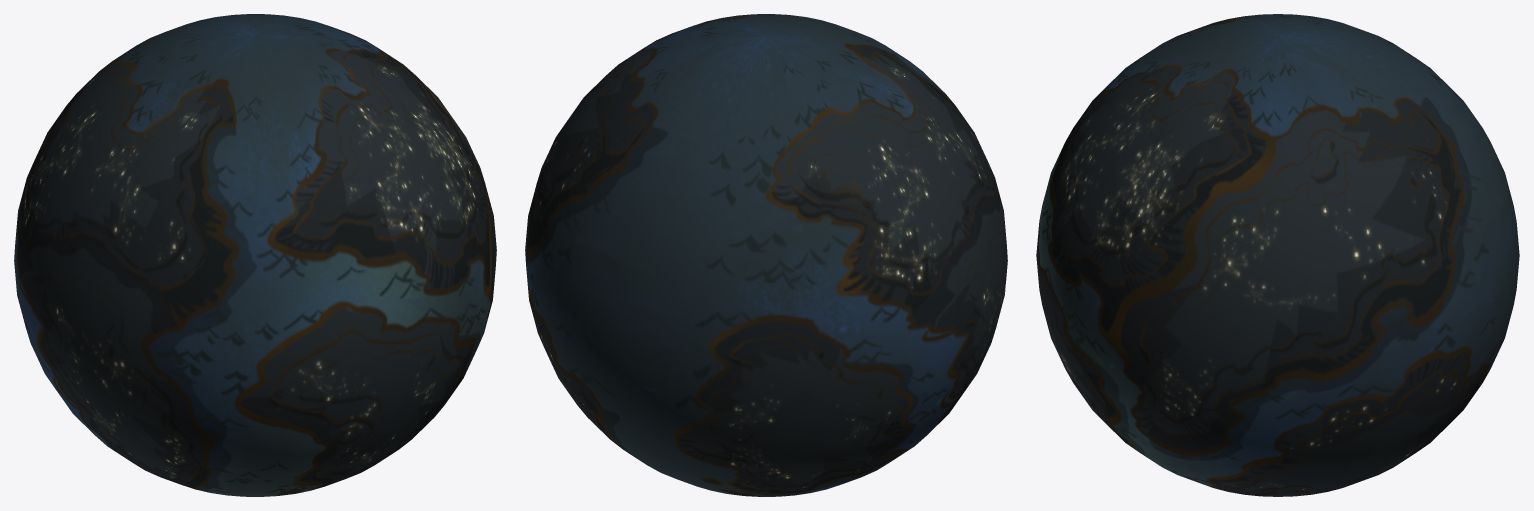
Rendered from SPlanet.FBX.
3 views of the same model, side by side, from view 1: azimuth 30°, elevation 25°; view 2: azimuth 150°, elevation 25°; view 3: azimuth 270°, elevation 25° (orthographic).
Visible parts, largest first — view 1: Sphere003, Sphere003_frag_394, Sphere003_frag_385, Sphere003_frag_442, Sphere003_frag_358, Sphere003_frag_320, Sphere003_frag_422, Sphere003_frag_261, Sphere003_frag_354, Sphere003_frag_251, Sphere003_frag_276, Sphere003_frag_435 (+18 smaller); view 2: Sphere003, Sphere003_frag_341, Sphere003_frag_431, Sphere003_frag_349, Sphere003_frag_452, Sphere003_frag_455, Sphere003_frag_399, Sphere003_frag_481, Sphere003_frag_420, Sphere003_frag_437, Sphere003_frag_373, Sphere003_frag_482 (+21 smaller); view 3: Sphere003, Sphere003_frag_471, Sphere003_frag_482, Sphere003_frag_274, Sphere003_frag_362, Sphere003_frag_399, Sphere003_frag_417, Sphere003_frag_258, Sphere003_frag_465, Sphere003_frag_407, Sphere003_frag_461, Sphere003_frag_349 (+33 smaller).
Boxes of the visible parts, x1,y1,x2,y2 form: Sphere003: (14, 18, 496, 496); Sphere003_frag_394: (370, 295, 454, 363); Sphere003_frag_385: (273, 74, 367, 150); Sphere003_frag_442: (391, 220, 460, 298); Sphere003_frag_358: (71, 355, 170, 446); Sphere003_frag_320: (366, 146, 441, 210); Sphere003_frag_422: (68, 270, 125, 356); Sphere003_frag_261: (364, 97, 452, 170); Sphere003_frag_354: (253, 328, 348, 417); Sphere003_frag_251: (34, 245, 71, 356); Sphere003_frag_276: (446, 258, 488, 323); Sphere003_frag_435: (393, 366, 459, 442); Sphere003: (527, 14, 1007, 496); Sphere003_frag_341: (555, 247, 672, 377); Sphere003_frag_431: (751, 392, 861, 458); Sphere003_frag_349: (571, 156, 647, 245); Sphere003_frag_452: (700, 308, 802, 370); Sphere003_frag_455: (682, 345, 805, 422); Sphere003_frag_399: (613, 41, 721, 114); Sphere003_frag_481: (603, 178, 687, 273); Sphere003_frag_420: (632, 79, 709, 151); Sphere003_frag_437: (715, 458, 812, 492); Sphere003_frag_373: (801, 292, 872, 378); Sphere003_frag_482: (629, 22, 730, 72); Sphere003: (1037, 14, 1518, 492); Sphere003_frag_471: (1208, 352, 1342, 456); Sphere003_frag_482: (1250, 53, 1343, 138); Sphere003_frag_274: (1297, 215, 1380, 323); Sphere003_frag_362: (1223, 125, 1326, 219); Sphere003_frag_399: (1302, 56, 1404, 139); Sphere003_frag_417: (1341, 245, 1404, 370); Sphere003_frag_258: (1188, 99, 1266, 176); Sphere003_frag_465: (1169, 269, 1291, 370); Sphere003_frag_407: (1239, 212, 1331, 296); Sphere003_frag_461: (1389, 242, 1479, 347); Sphere003_frag_349: (1425, 122, 1491, 237).
Bounding box in the file's own units: 69 × 69 × 69.
1 material, 1 textured.
